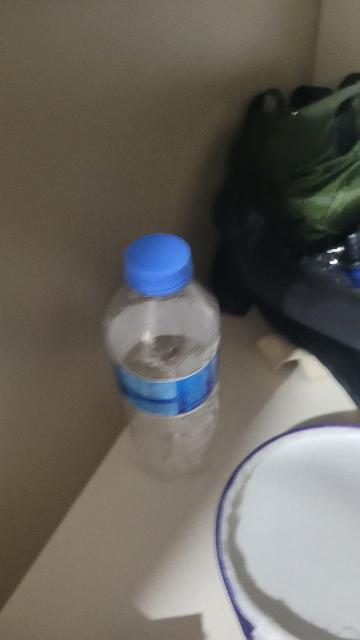Plastik: (94, 229, 224, 491), (116, 231, 208, 299)
